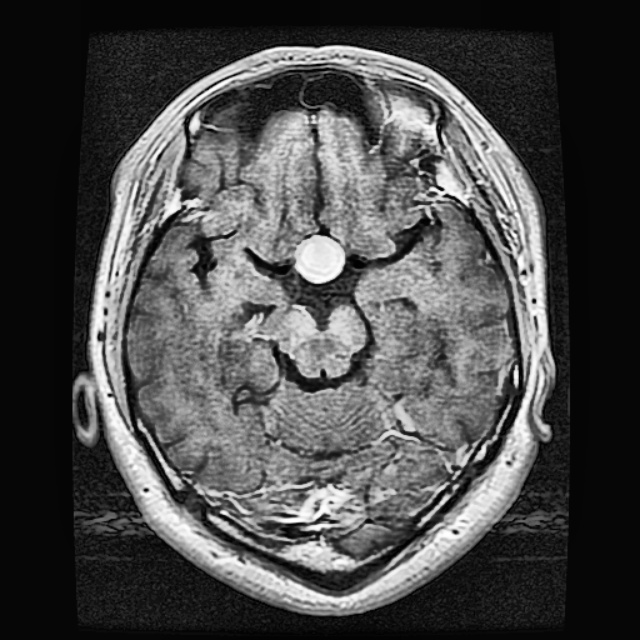Pituitary: (297, 234, 345, 283)
